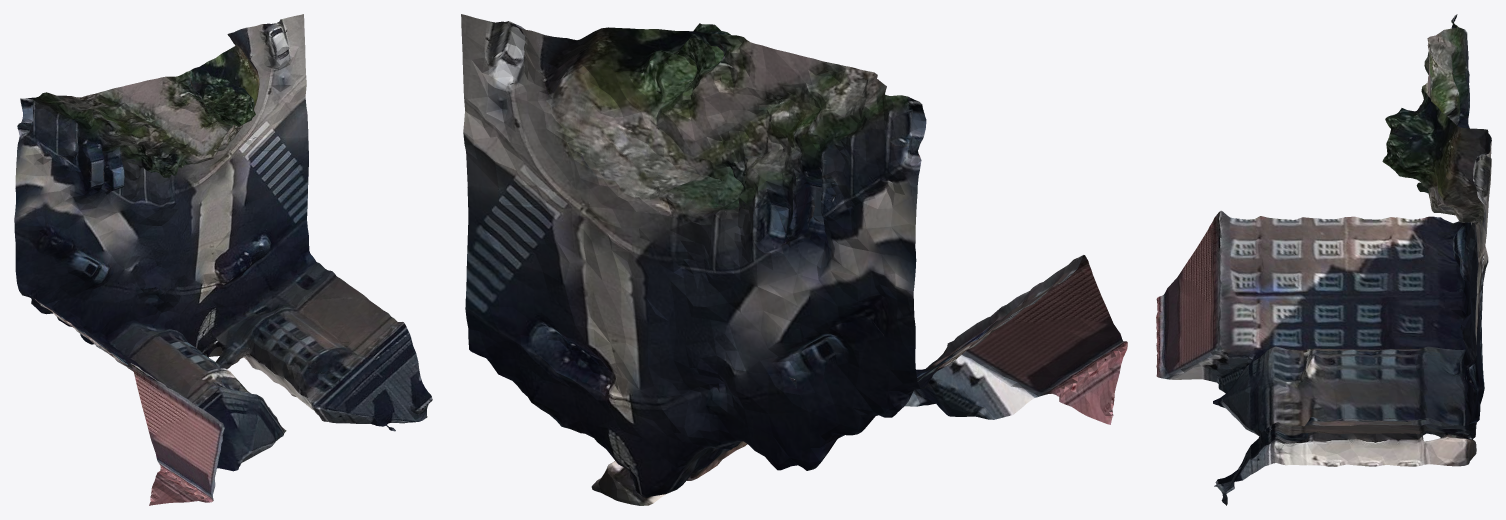
File: Tile_+031_+022_L21_00001300.obj
The picture shows the model from 3 angles, left to right: view 1: azimuth 30°, elevation 25°; view 2: azimuth 150°, elevation 25°; view 3: azimuth 270°, elevation 25°; orthographic projection. The views are drawn at different scales.
Bounding box in the file's own units: 31.38 × 31.38 × 28.46.
1 material, 1 textured.
